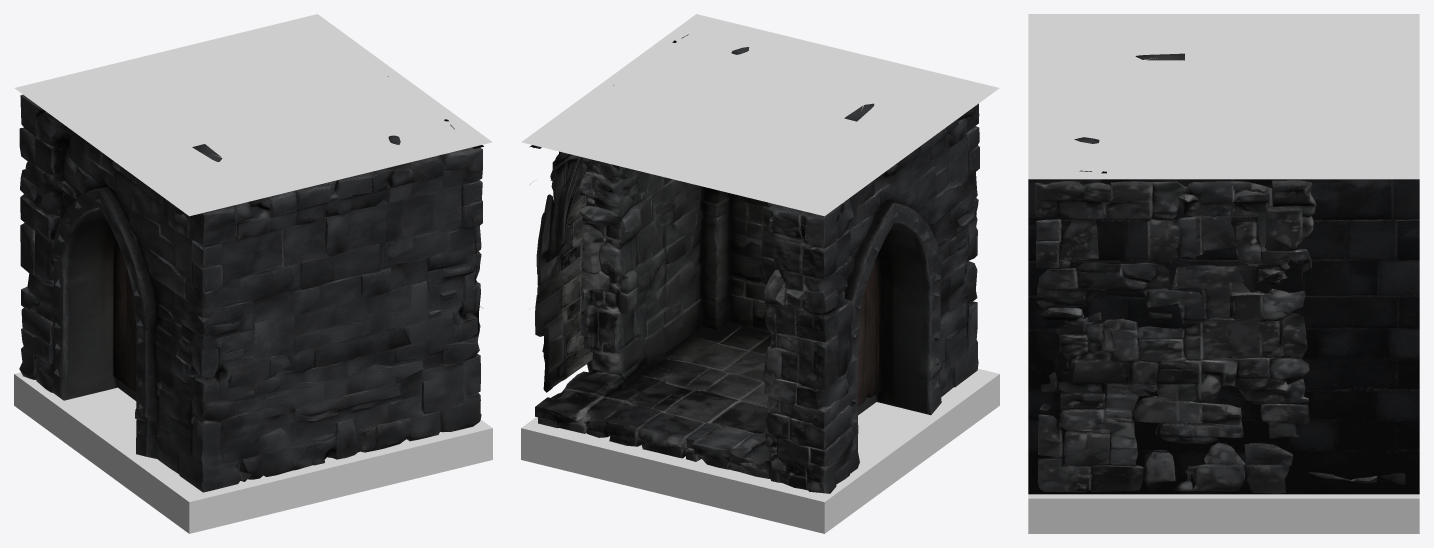
The model's file is module_gate.glb.
3 renders of one model, left to right at view 1: azimuth 30°, elevation 25°; view 2: azimuth 150°, elevation 25°; view 3: azimuth 270°, elevation 25°, orthographic. The views are drawn at different scales.
Visible parts, largest first — view 1: tripo_node_1dd0d600-ebc7-4a83-9fba-87d53496ca56; view 2: tripo_node_1dd0d600-ebc7-4a83-9fba-87d53496ca56; view 3: tripo_node_1dd0d600-ebc7-4a83-9fba-87d53496ca56.
Boxes of the visible parts, bbox=[...] form: tripo_node_1dd0d600-ebc7-4a83-9fba-87d53496ca56: bbox=[14, 14, 492, 533]; tripo_node_1dd0d600-ebc7-4a83-9fba-87d53496ca56: bbox=[521, 14, 999, 533]; tripo_node_1dd0d600-ebc7-4a83-9fba-87d53496ca56: bbox=[1028, 14, 1419, 533].
Size of the model in its own units: 6 by 6.01 by 6.
Materials: 3 (2 with a texture image).
